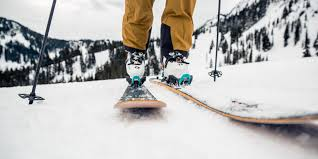skis: (116, 73, 315, 133)
